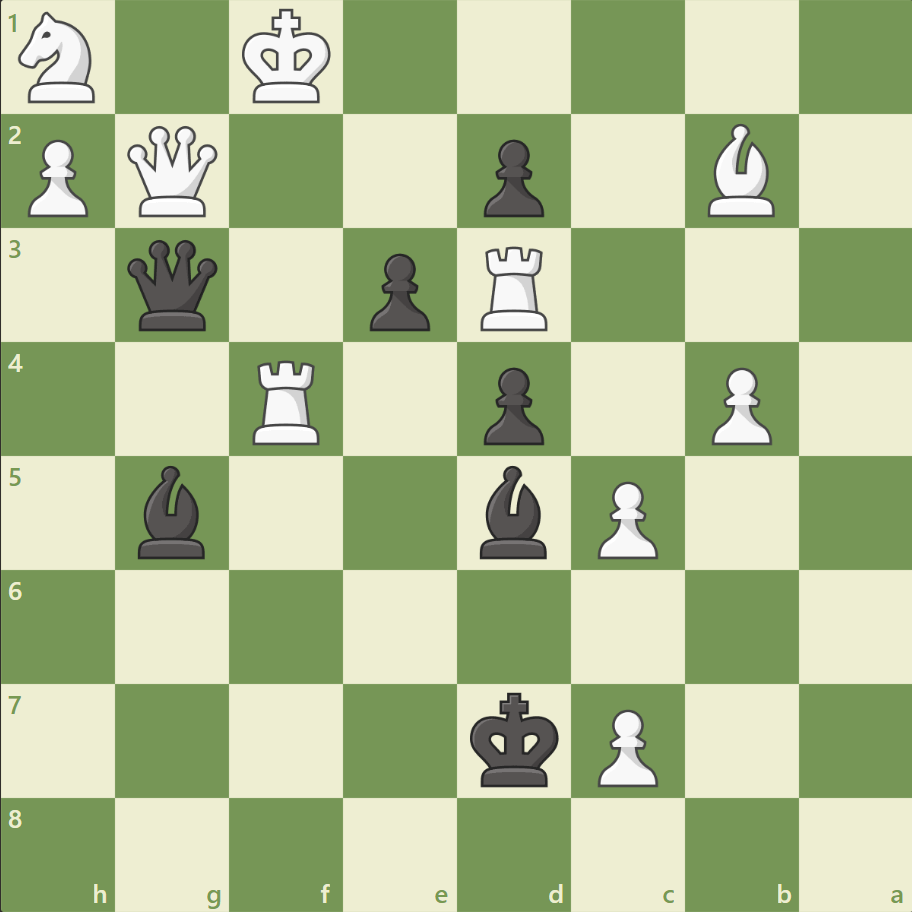B: (698, 120, 782, 222)
K: (238, 4, 338, 112)
N: (11, 7, 108, 110)
P: (701, 359, 776, 450), (20, 132, 95, 223), (588, 700, 662, 791), (588, 473, 662, 564)
Q: (124, 122, 223, 222)
R: (246, 352, 329, 449), (473, 239, 556, 336)
b: (471, 460, 555, 563), (131, 460, 215, 563)
k: (465, 685, 565, 793)
p: (474, 359, 549, 450), (474, 132, 549, 223), (361, 246, 435, 337)
q: (124, 236, 223, 335)
